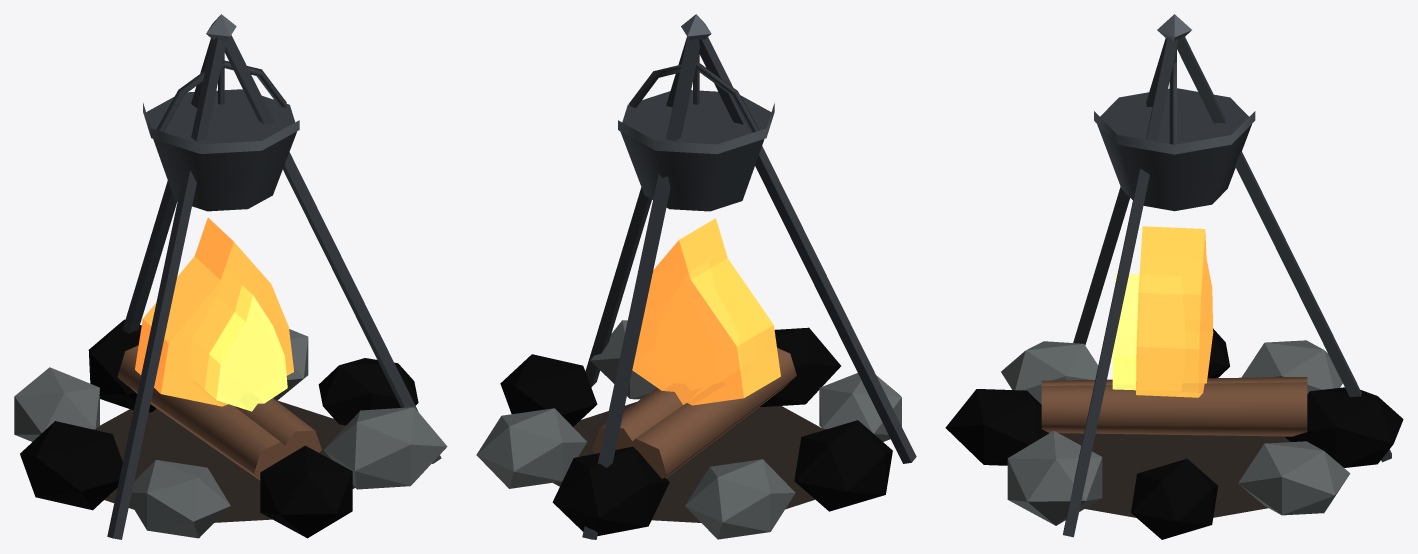
Rendered from campfire-kit.glb.
The picture shows the model from 3 angles, left to right: view 1: azimuth 30°, elevation 25°; view 2: azimuth 150°, elevation 25°; view 3: azimuth 270°, elevation 25°; orthographic projection.
Parts seen in each view (by area): view 1: Merged_city-metal-dark, Merged_fire-ring-stone-deep, Merged_fire-ring-stone, Merged_flame-outer, Merged_campfire-log, Merged_fire-ash-bed-surface, Merged_flame-core, Merged_city-metal; view 2: Merged_city-metal-dark, Merged_fire-ring-stone-deep, Merged_flame-outer, Merged_fire-ring-stone, Merged_fire-ash-bed-surface, Merged_campfire-log, Merged_city-metal; view 3: Merged_city-metal-dark, Merged_fire-ring-stone, Merged_fire-ring-stone-deep, Merged_campfire-log, Merged_flame-outer, Merged_fire-ash-bed-surface, Merged_flame-core, Merged_city-metal.
Boxes of the visible parts, x1=… form: Merged_city-metal-dark: x1=107, y1=35, x2=441, y2=539; Merged_fire-ring-stone-deep: x1=20, y1=319, x2=418, y2=538; Merged_fire-ring-stone: x1=14, y1=329, x2=447, y2=538; Merged_flame-outer: x1=135, y1=217, x2=293, y2=406; Merged_campfire-log: x1=117, y1=345, x2=321, y2=480; Merged_fire-ash-bed-surface: x1=95, y1=400, x2=355, y2=522; Merged_flame-core: x1=204, y1=285, x2=287, y2=411; Merged_city-metal: x1=143, y1=14, x2=299, y2=153; Merged_city-metal-dark: x1=582, y1=36, x2=916, y2=539; Merged_fire-ring-stone-deep: x1=500, y1=327, x2=892, y2=535; Merged_flame-outer: x1=632, y1=218, x2=780, y2=405; Merged_fire-ring-stone: x1=476, y1=320, x2=901, y2=539; Merged_fire-ash-bed-surface: x1=553, y1=402, x2=823, y2=522; Merged_campfire-log: x1=592, y1=348, x2=796, y2=478; Merged_city-metal: x1=618, y1=14, x2=774, y2=154; Merged_city-metal-dark: x1=1063, y1=36, x2=1391, y2=537; Merged_fire-ring-stone: x1=1001, y1=340, x2=1350, y2=525; Merged_fire-ring-stone-deep: x1=945, y1=328, x2=1403, y2=539; Merged_campfire-log: x1=1041, y1=377, x2=1307, y2=436; Merged_flame-outer: x1=1136, y1=226, x2=1213, y2=397; Merged_fire-ash-bed-surface: x1=1060, y1=433, x2=1290, y2=517; Merged_flame-core: x1=1112, y1=273, x2=1139, y2=390; Merged_city-metal: x1=1094, y1=14, x2=1255, y2=154.
Size of what is drawn, in the model's own units: 2.23 by 2.51 by 2.33.
